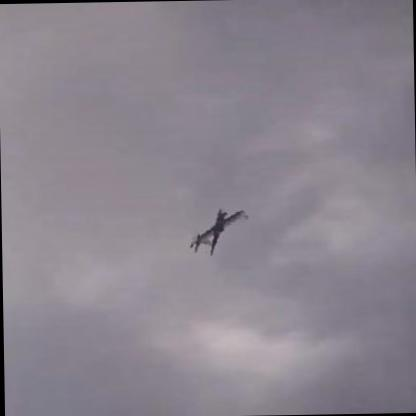plane: (186, 206, 249, 257)
